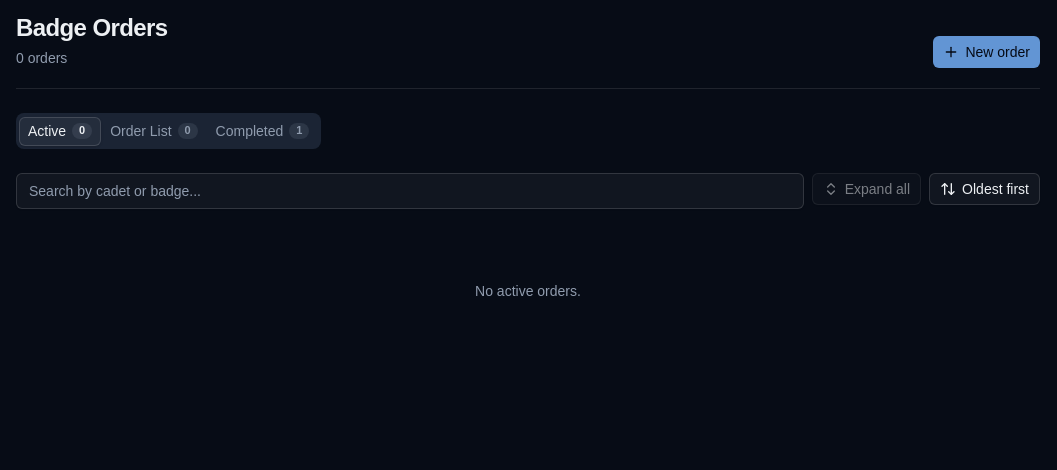
Test case: undoing a given badge › offers no Undo on a completed order
Click the tab "Completed 1" at [262, 131], box [207,116,318,146]
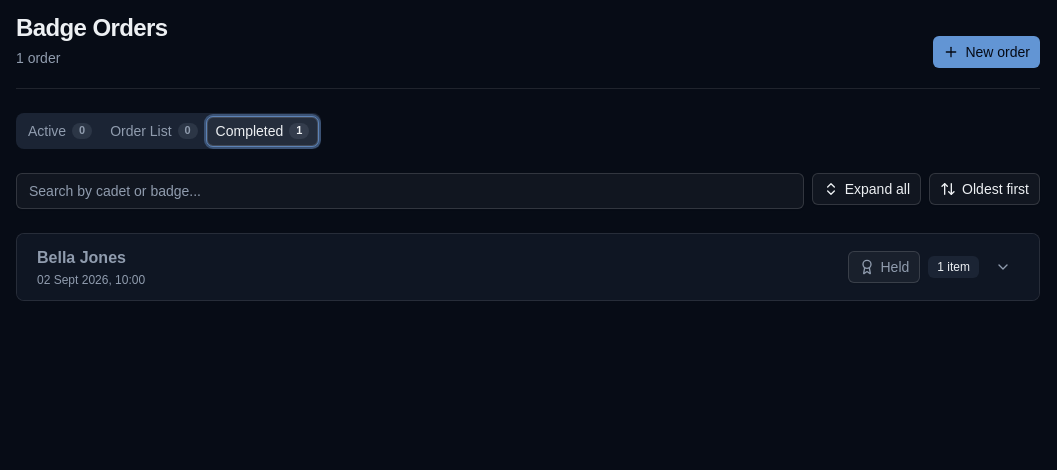
Now the link "Bella Jones" is shown, box [37,246,126,270]
Click the button named "Expand order for Bella Jones" at [1003, 267], box [987,251,1019,283]
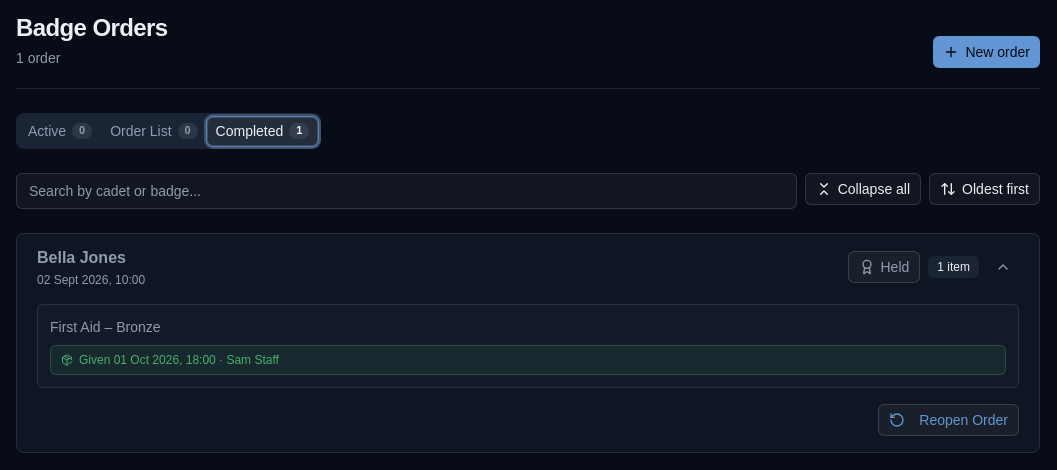
Now the text "Given 01 Oct 2026, 18:00 · Sam Staff" is shown, box [79,353,279,367]
